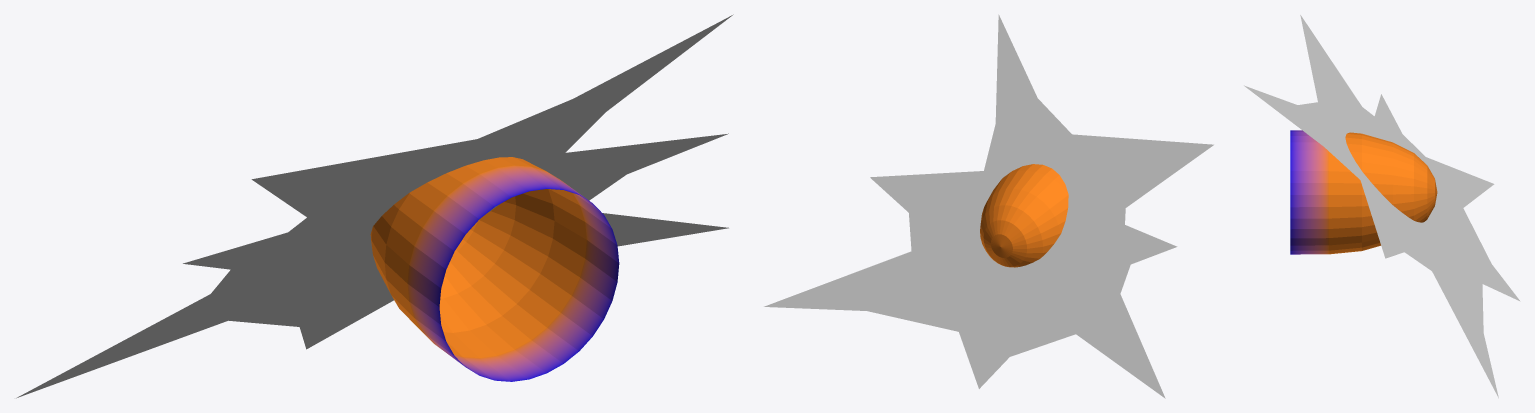
Rendered from pref_fx_greedent_spell01A_atk02_lv3.fbx.
3 renders of one model, left to right at view 1: azimuth 30°, elevation 25°; view 2: azimuth 150°, elevation 25°; view 3: azimuth 270°, elevation 25°, orthographic. The views are drawn at different scales.
Visible parts, largest first — view 1: glow (1), gq; view 2: glow (1), gq; view 3: glow (1), gq.
Boxes of the visible parts, x1,y1,x2,y2 form: glow (1): [16, 14, 733, 398]; gq: [370, 157, 619, 381]; glow (1): [764, 14, 1213, 398]; gq: [980, 164, 1068, 267]; glow (1): [1244, 15, 1520, 398]; gq: [1290, 130, 1437, 254].
Bounding box in the file's own units: 4.48 × 2.72 × 2.5.
